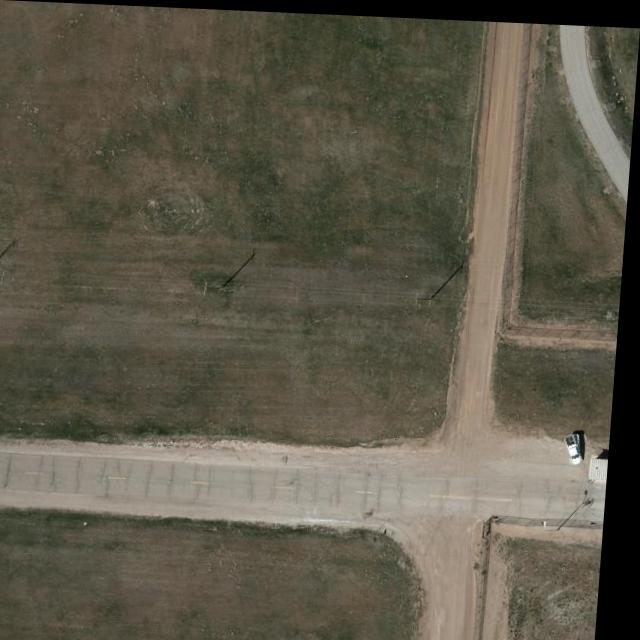vehicle: (570, 427, 591, 461)
